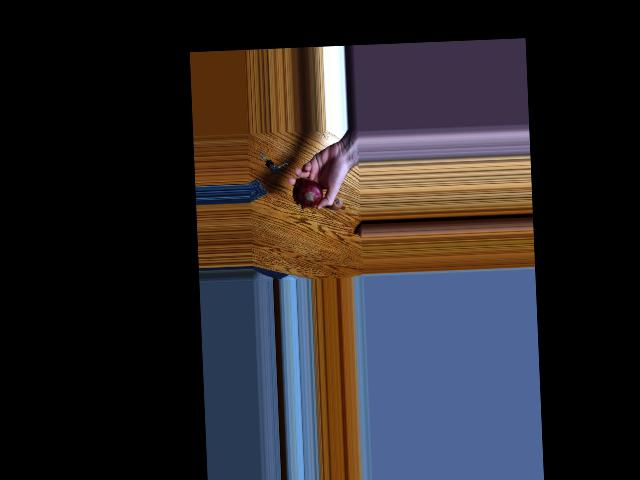onion: (329, 191, 348, 211)
